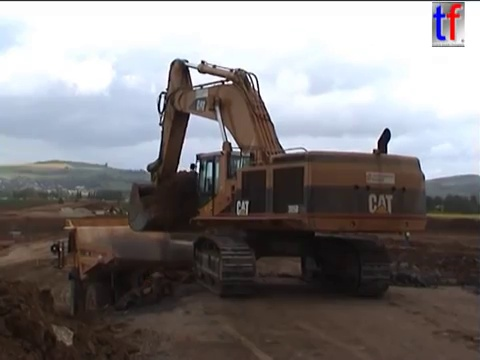excavator: (126, 55, 430, 300), (105, 203, 130, 220)
truck: (49, 216, 220, 319), (56, 196, 65, 205), (72, 196, 81, 204)
worker: (400, 217, 415, 244)
